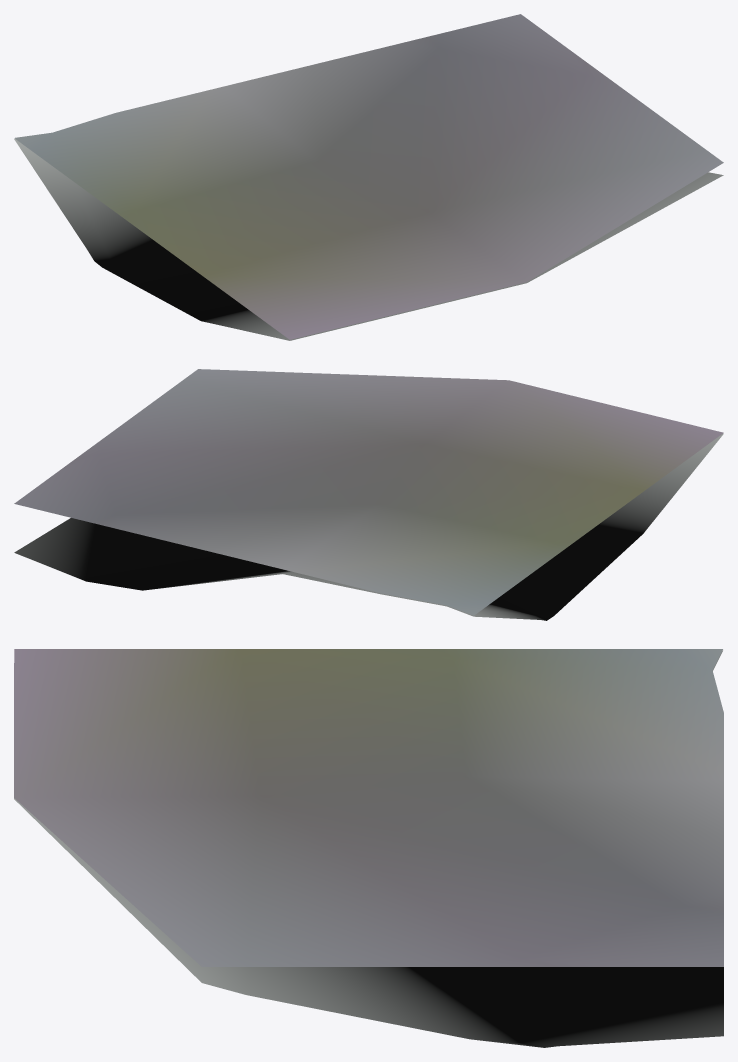
3 renders of one model, top to bottom at view 1: azimuth 30°, elevation 25°; view 2: azimuth 150°, elevation 25°; view 3: azimuth 270°, elevation 25°, orthographic. The views are drawn at different scales.
Visible parts, largest first — view 1: G:\FFXIV-MapTools\exports\r2f1\bg\ex1\01_roc_r2\fld\r2f1\bgp (×2); view 2: G:\FFXIV-MapTools\exports\r2f1\bg\ex1\01_roc_r2\fld\r2f1\bgp (×2); view 3: G:\FFXIV-MapTools\exports\r2f1\bg\ex1\01_roc_r2\fld\r2f1\bgp (×2).
Part boxes in pixels (x1,y1,x2,y2): G:\FFXIV-MapTools\exports\r2f1\bg\ex1\01_roc_r2\fld\r2f1\bgp (×2): (14,14,723,340); G:\FFXIV-MapTools\exports\r2f1\bg\ex1\01_roc_r2\fld\r2f1\bgp (×2): (14,369,723,620); G:\FFXIV-MapTools\exports\r2f1\bg\ex1\01_roc_r2\fld\r2f1\bgp (×2): (14,649,723,1047).
Bounding box in the file's own units: 128 × 16 × 121.
